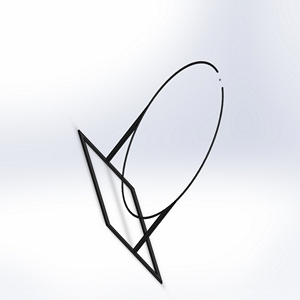circle: (75, 57, 226, 284)
